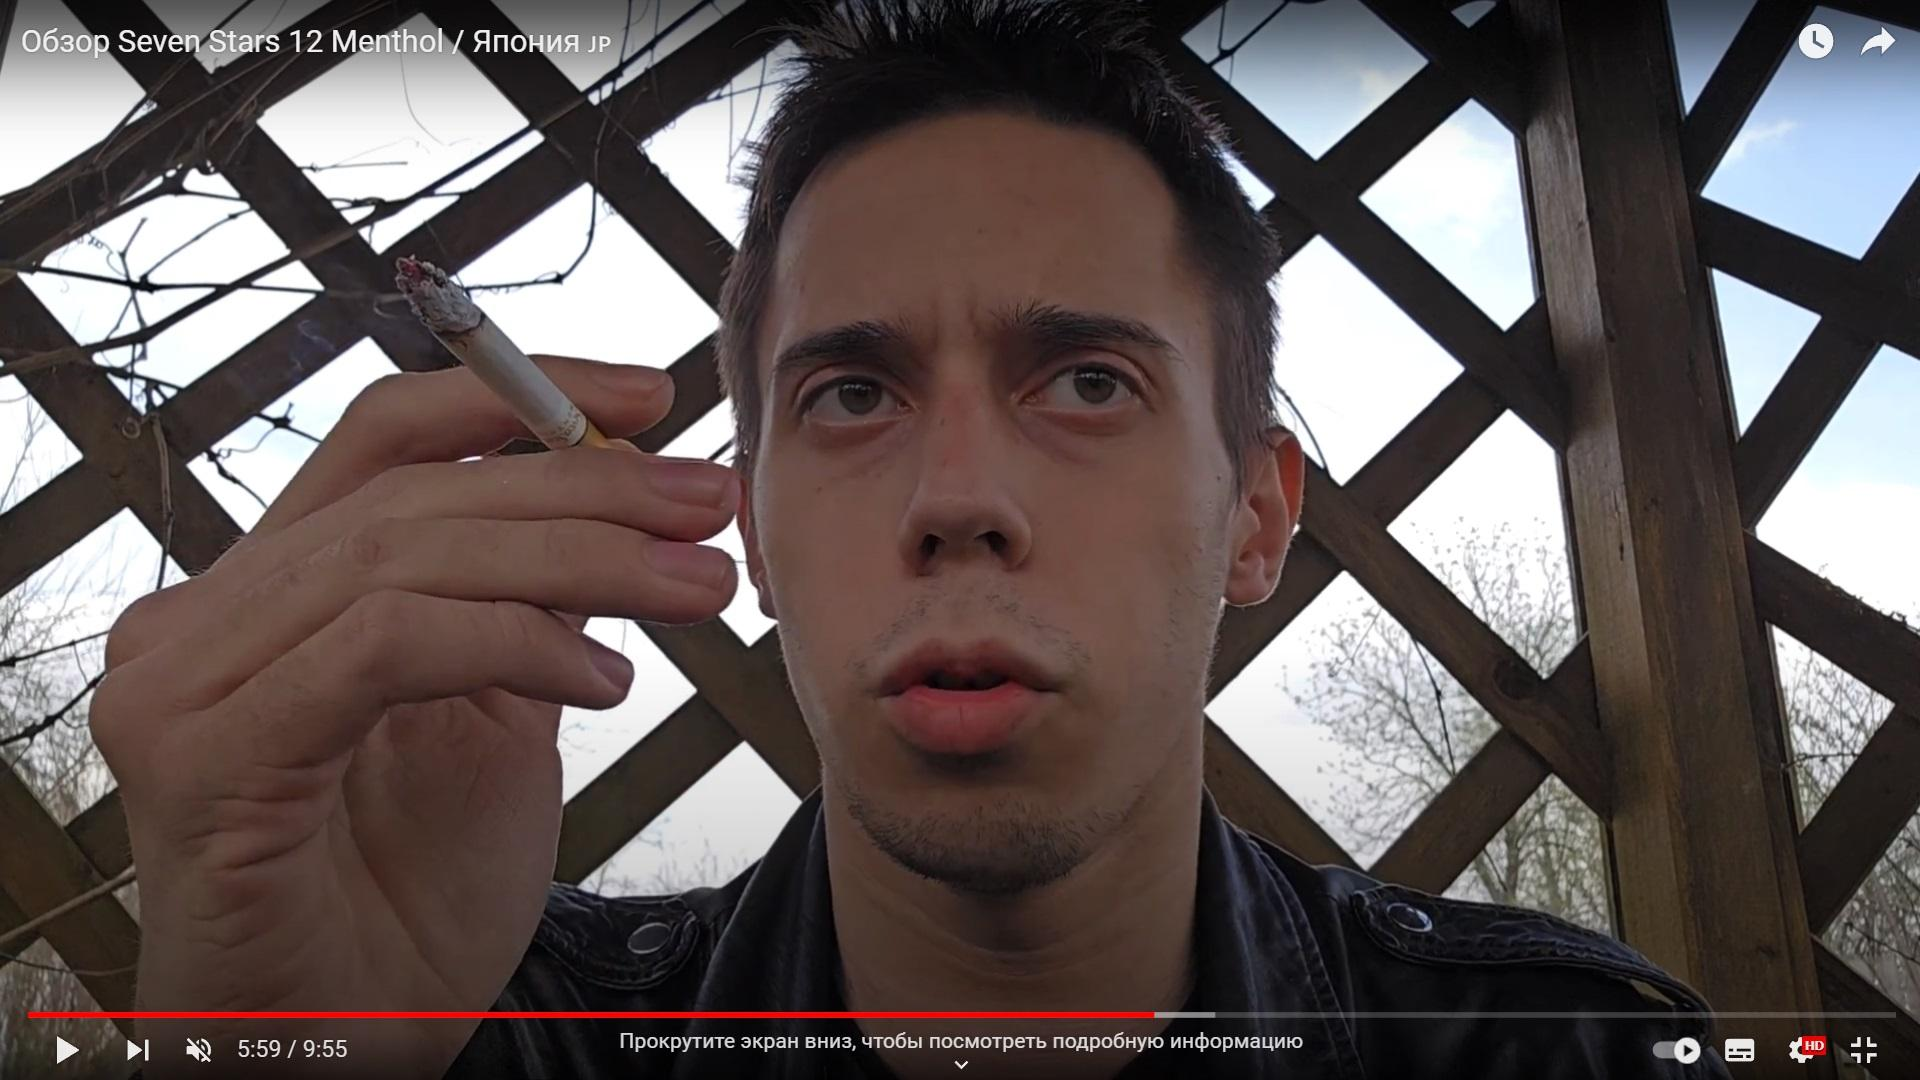cigarette: (394, 253, 616, 450)
